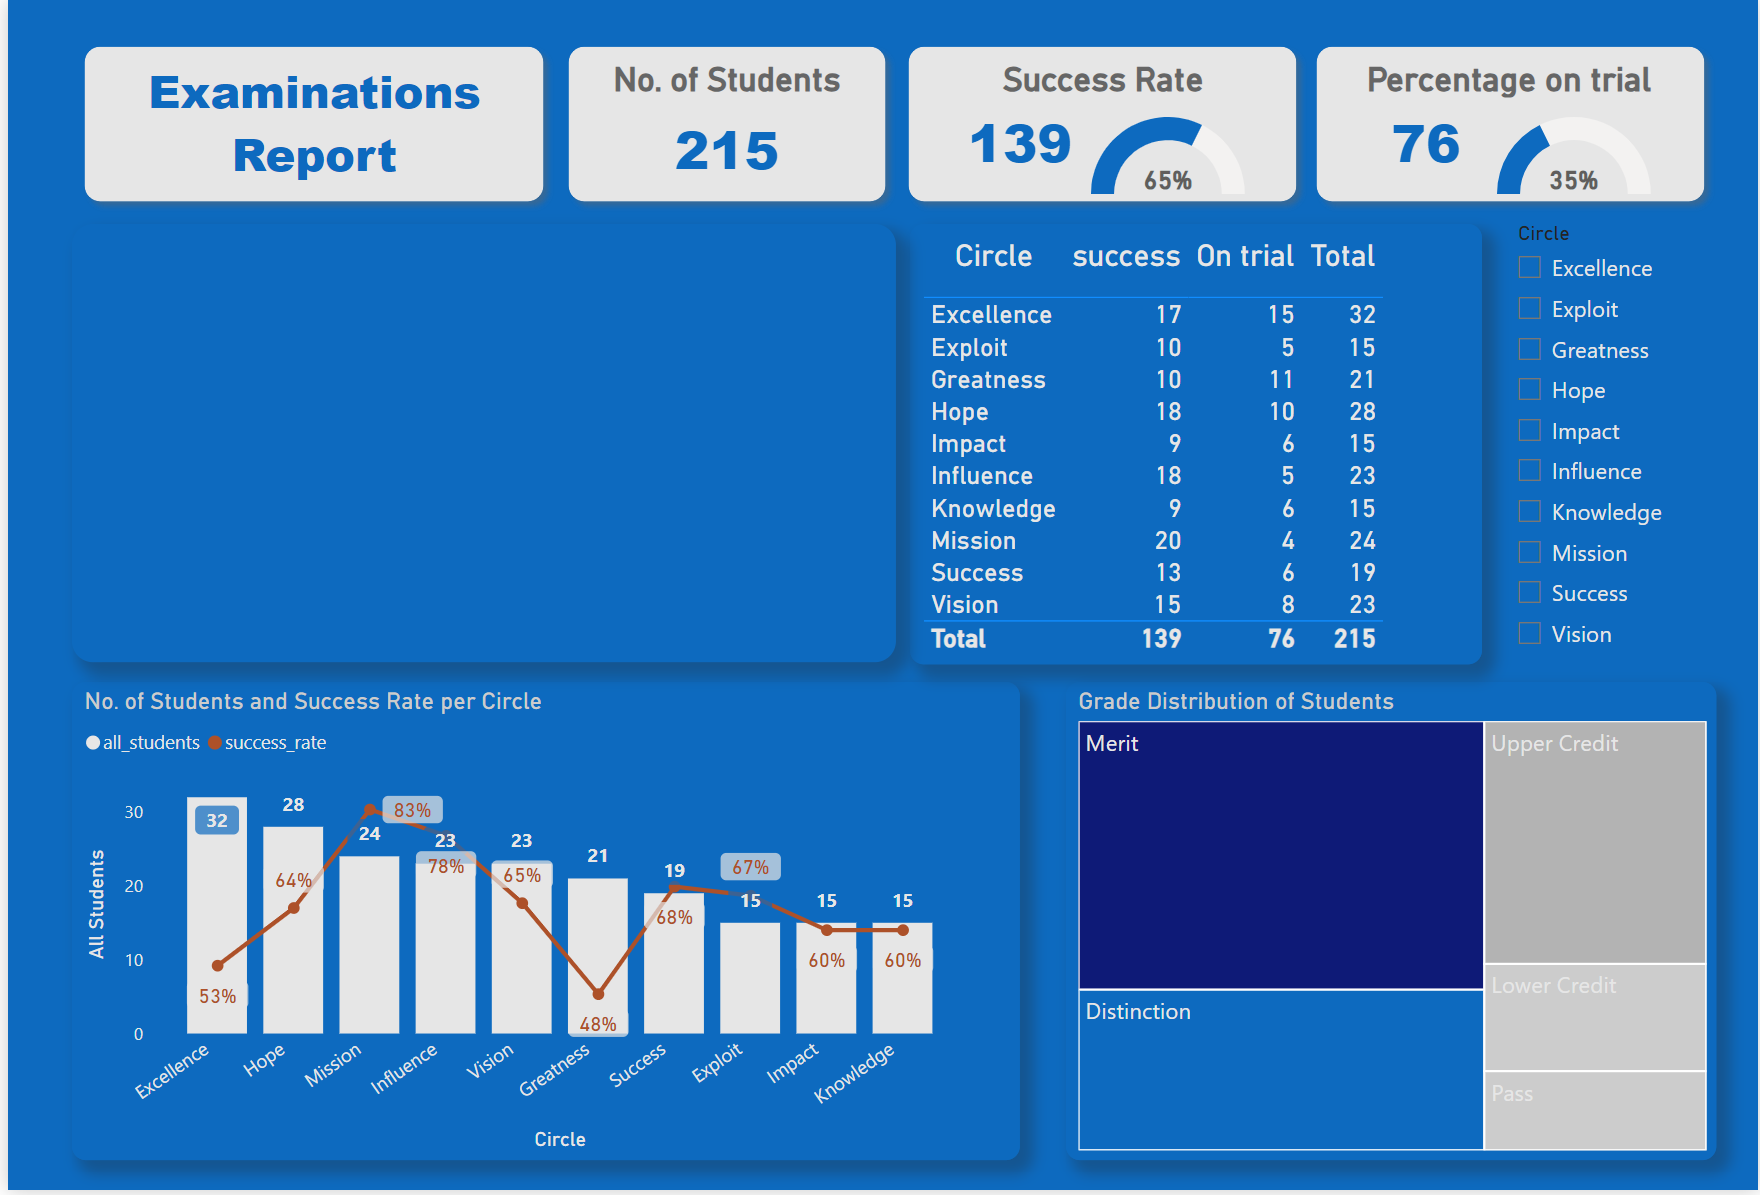

The dashboard page shown, as its layout file describes it:
{"tool":"powerbi","page":{"name":"Page 2","canvas":[1250,850],"ordinal":1},"visuals":[{"type":"shape","box":[45.7,24.3,345.8,128.6],"z":0},{"type":"shape","box":[0,0,1250,850],"z":1000},{"type":"shape","box":[45.7,24.3,345.7,128.6],"z":1500},{"type":"textbox","box":[59.8,37.3,317.6,106.5],"z":2000},{"type":"lineStackedColumnComboChart","title":"No. of Students and Success Rate per Circle","fields":{"Category":["DimCircle.Circle"],"Y":["All measures.all_students"],"Y2":["All measures.success_rate"]},"box":[45.7,487.1,677.1,341.4],"z":4000},{"type":"card","fields":{"Values":["All measures.all_students"]},"box":[401.4,87.9,224.4,53.2],"z":5000},{"type":"treemap","title":"Grade Distribution of Students","fields":{"Group":["ExamsFacts.Grade"],"Values":["All measures.all_students"]},"box":[755.7,487.1,464.3,341.4],"z":6000},{"type":"textbox","box":[401.4,37.3,224.4,45.5],"z":7000},{"type":"tableEx","fields":{"Values":["DimCircle.Circle","All measures.success","All measures.on_trial","All measures.all_students"]},"box":[644.3,160,408.6,314.3],"z":8000},{"type":"shape","box":[634.3,24.3,295,128.6],"z":9000},{"type":"textbox","box":[45.7,160,588.6,312.9],"z":10000},{"type":"card","fields":{"Values":["All measures.success"]},"box":[669.6,74.9,105.9,53.2],"z":11000},{"type":"gauge","fields":{"Y":["All measures.success_rate"]},"box":[762.7,78.8,131.3,64.9],"z":12000},{"type":"textbox","box":[669.6,37.3,224.4,37.7],"z":13000},{"type":"shape","box":[925,24.3,295,128.6],"z":14000},{"type":"card","fields":{"Values":["All measures.on_trial"]},"box":[960.3,74.9,105.9,53.2],"z":15000},{"type":"gauge","fields":{"Y":["All measures.%on_trial"]},"box":[1053.5,78.8,131.3,64.9],"z":16000},{"type":"textbox","box":[960.3,37.3,224.4,37.7],"z":17000},{"type":"shape","box":[391.4,24.3,244.3,128.6],"z":17500},{"type":"slicer","fields":{"Values":["DimCircle.Circle"]},"box":[1065.7,152.9,155.7,325.7],"z":18000},{"type":"textbox","box":[401.4,37.1,224.3,45.7],"z":18001},{"type":"card","fields":{"Values":["All measures.all_students"]},"box":[401.4,78.6,224.3,54.3],"z":18002}]}

Visuals, with their boxes in screenshot pixels (x1, y1, x2, y2), scaled from the page's 1250x850 canvas onto the 1760x1195 screenshot:
shape: select_region(64, 34, 551, 215)
shape: select_region(0, 0, 1759, 1194)
shape: select_region(64, 34, 551, 215)
textbox: select_region(84, 52, 531, 202)
"No. of Students and Success Rate per Circle" lineStackedColumnComboChart: select_region(64, 685, 1018, 1165)
card - All measures.all_students: select_region(565, 124, 881, 198)
"Grade Distribution of Students" treemap: select_region(1064, 685, 1718, 1165)
textbox: select_region(565, 52, 881, 116)
tableEx - DimCircle.Circle x All measures.success: select_region(907, 225, 1482, 667)
shape: select_region(893, 34, 1308, 215)
textbox: select_region(64, 225, 893, 665)
card - All measures.success: select_region(943, 105, 1092, 180)
gauge - All measures.success_rate: select_region(1074, 111, 1259, 202)
textbox: select_region(943, 52, 1259, 105)
shape: select_region(1302, 34, 1718, 215)
card - All measures.on_trial: select_region(1352, 105, 1501, 180)
gauge - All measures.%on_trial: select_region(1483, 111, 1668, 202)
textbox: select_region(1352, 52, 1668, 105)
shape: select_region(551, 34, 895, 215)
slicer - DimCircle.Circle: select_region(1501, 215, 1720, 673)
textbox: select_region(565, 52, 881, 116)
card - All measures.all_students: select_region(565, 111, 881, 187)
